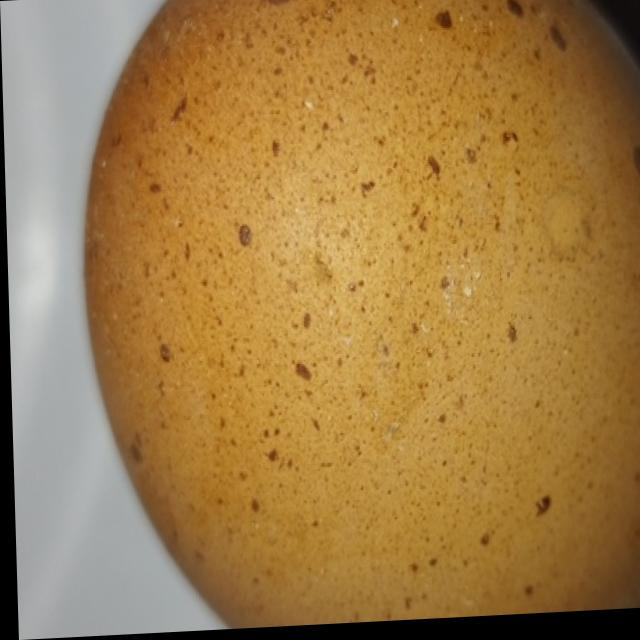unfresh: (55, 0, 640, 638)
